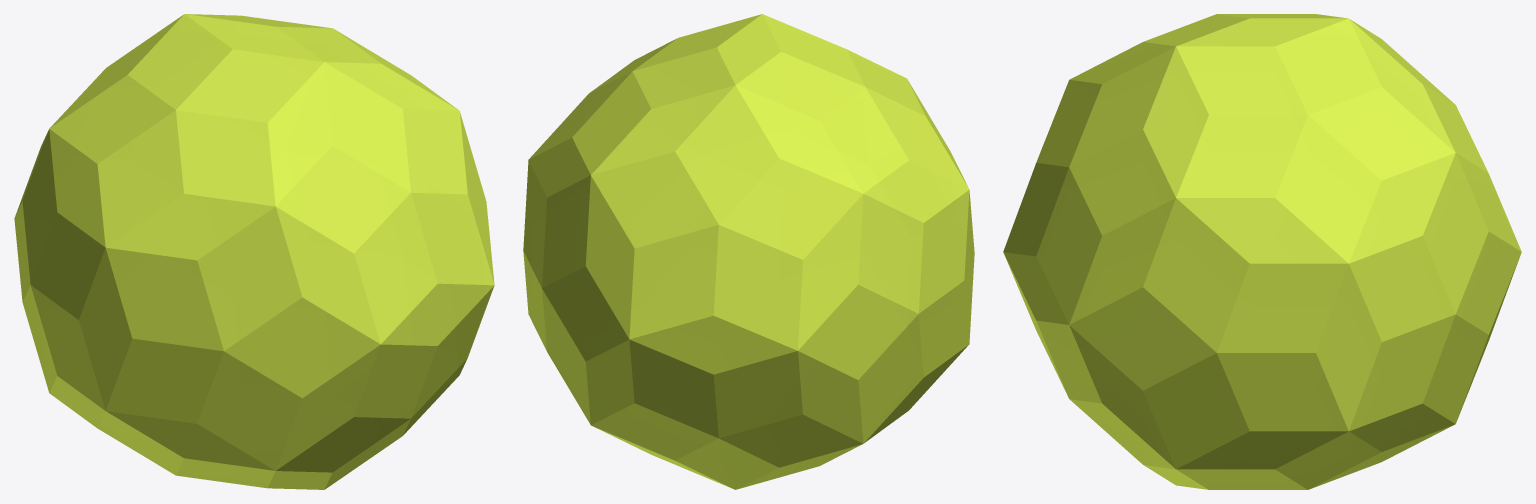
File: rhombic_enneacontahedron.obj
3 views of the same model, side by side, from view 1: azimuth 30°, elevation 25°; view 2: azimuth 150°, elevation 25°; view 3: azimuth 270°, elevation 25° (orthographic). The views are drawn at different scales.
Bounding box in the file's own units: 4.82 × 4.89 × 5.24.
